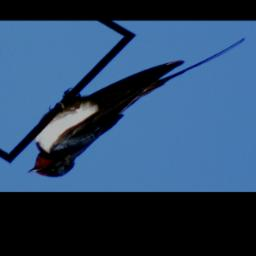Swallow: (8, 36, 256, 181)
